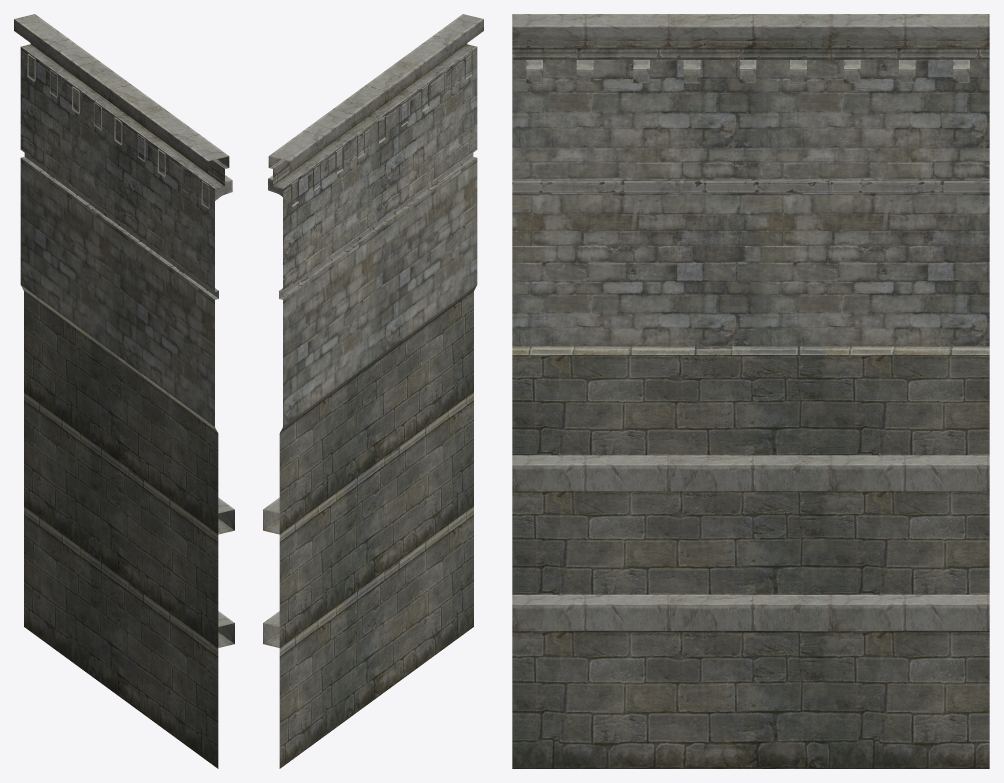
The model's file is bg_lut_lucastle_wall01_sm_lkj.FBX.
The picture shows the model from 3 angles, left to right: view 1: azimuth 30°, elevation 25°; view 2: azimuth 150°, elevation 25°; view 3: azimuth 270°, elevation 25°; orthographic projection. The views are drawn at different scales.
Visible parts, largest first — view 1: bg_lut_lucastle_wall01_sm_lkj; view 2: bg_lut_lucastle_wall01_sm_lkj; view 3: bg_lut_lucastle_wall01_sm_lkj.
Boxes of the visible parts, x1=… form: bg_lut_lucastle_wall01_sm_lkj: x1=14, y1=14, x2=234, y2=768; bg_lut_lucastle_wall01_sm_lkj: x1=263, y1=14, x2=483, y2=768; bg_lut_lucastle_wall01_sm_lkj: x1=512, y1=14, x2=989, y2=768.
Size of the model in its own units: 69.57 by 1330 by 768.
